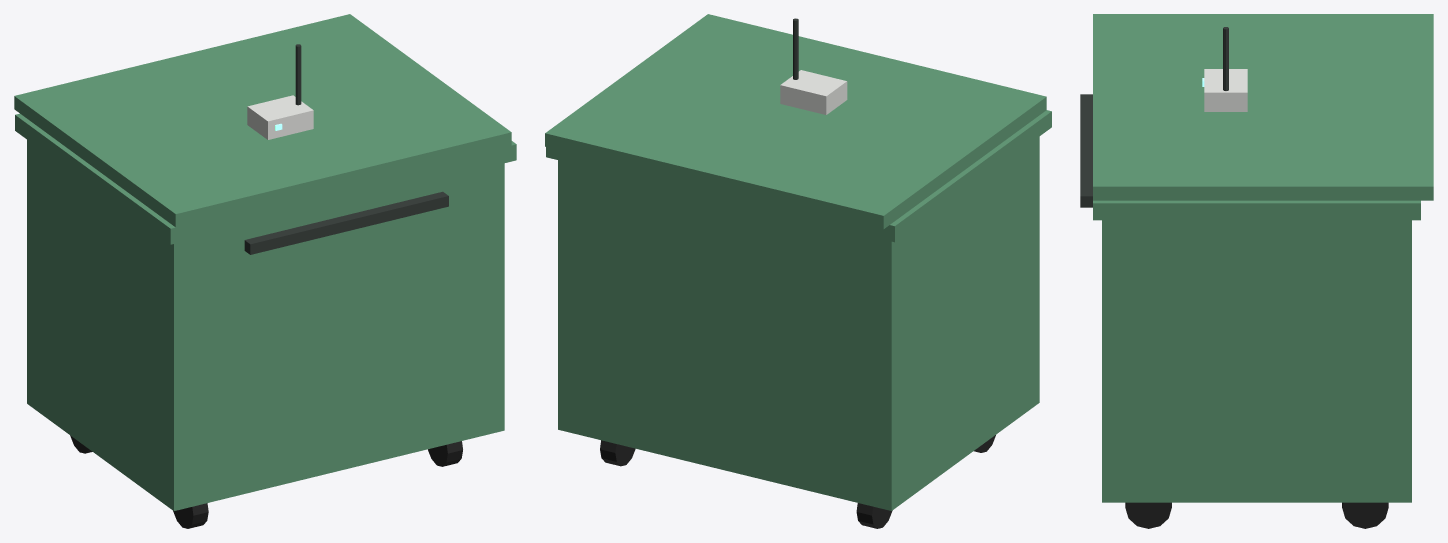
The model's file is bin-sensor.glb.
3 renders of one model, left to right at view 1: azimuth 30°, elevation 25°; view 2: azimuth 150°, elevation 25°; view 3: azimuth 270°, elevation 25°, orthographic. The views are drawn at different scales.
Visible parts, largest first — view 1: bin, sensor; view 2: bin, sensor; view 3: bin, sensor.
Boxes of the visible parts, x1,y1,x2,y2 form: bin: (14,14,516,528); sensor: (247,44,313,139); bin: (545,14,1051,528); sensor: (780,18,847,114); bin: (1080,14,1433,528); sensor: (1204,27,1247,111).
Bounding box in the file's own units: 1.36 × 1.57 × 1.14.
